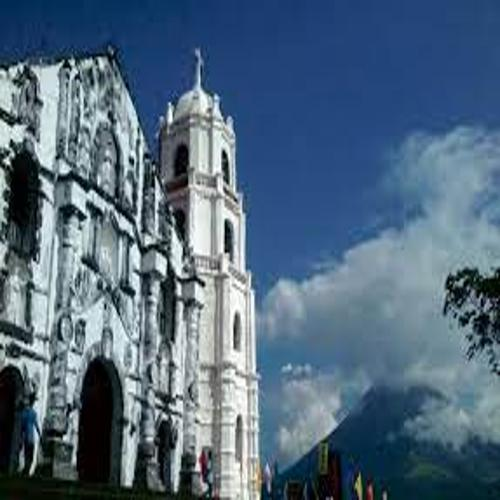Daraga Church: (1, 29, 272, 500)
